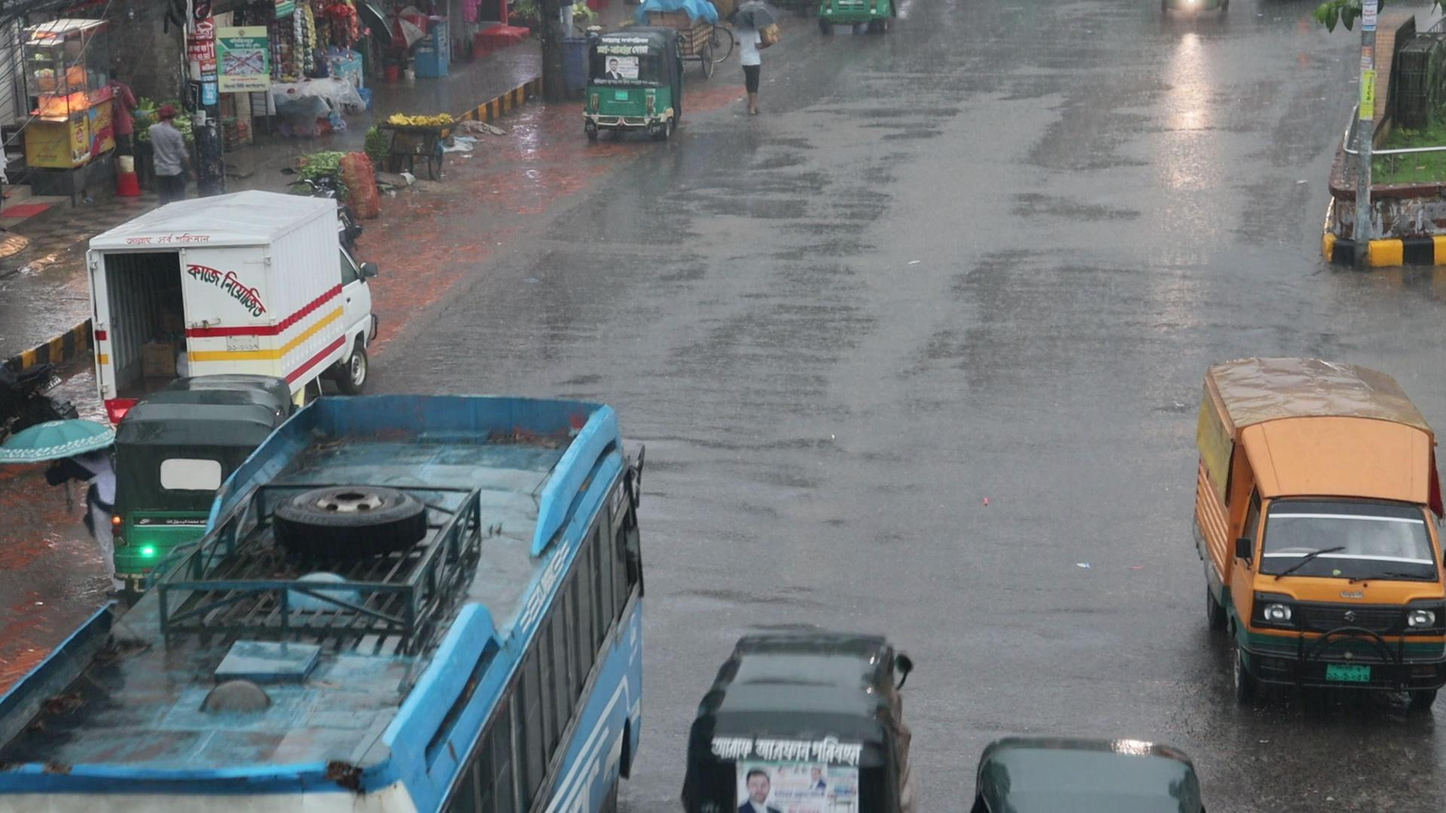Truck: (1194, 352, 1446, 722), (107, 371, 298, 591)
